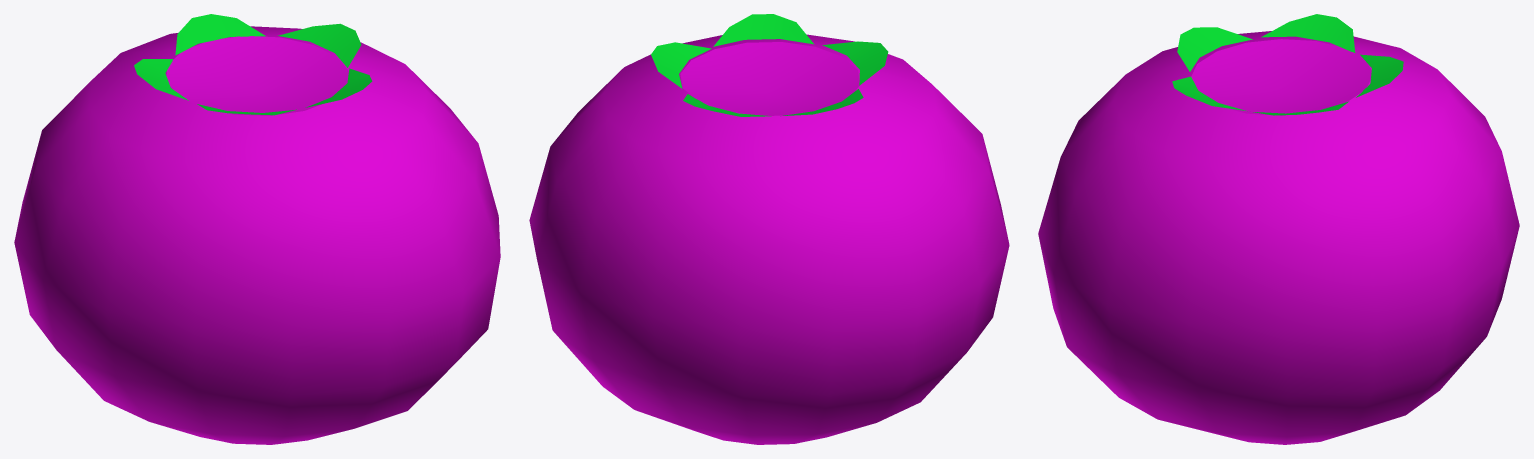
The model's file is poison_berry.fbx.
The picture shows the model from 3 angles, left to right: view 1: azimuth 30°, elevation 25°; view 2: azimuth 150°, elevation 25°; view 3: azimuth 270°, elevation 25°; orthographic projection.
Visible parts, largest first — view 1: Sphere.003; view 2: Sphere.003; view 3: Sphere.003.
Part boxes in pixels (<box>): Sphere.003: <box>14,14,500,444</box>; Sphere.003: <box>529,14,1009,444</box>; Sphere.003: <box>1038,14,1519,444</box>.
Bounding box in the file's own units: 63.66 × 51.65 × 63.44.
